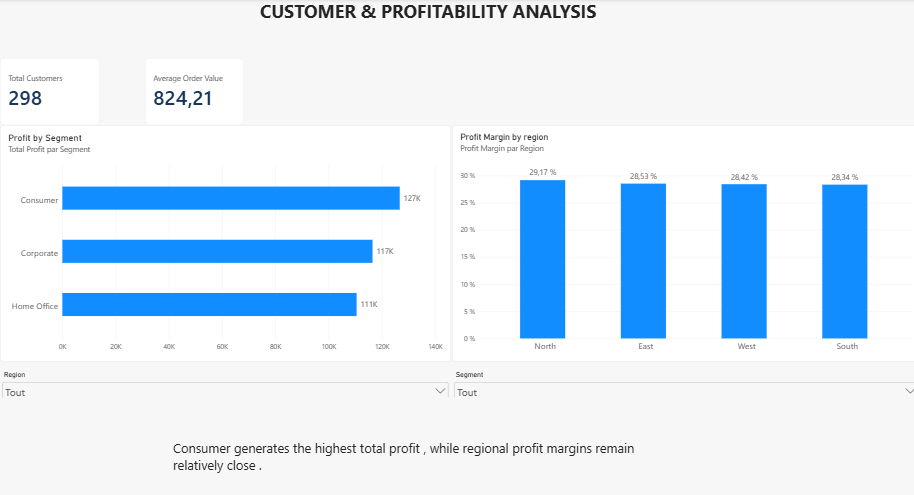

Layout of this report page (visuals, bound fields, positions):
{"tool":"powerbi","page":{"name":"Customer & Profitability","canvas":[1920,1080],"ordinal":2},"visuals":[{"type":"textbox","box":[542.5,0,870,140],"z":0},{"type":"cardVisual","fields":{"Data":["Sales.Total Customers"]},"box":[0,122.5,207.5,140],"z":1000},{"type":"cardVisual","fields":{"Data":["Sales.Average Order Value"]},"box":[302.5,122.5,205,140],"z":2000},{"type":"clusteredBarChart","title":"Profit by Segment","fields":{"Category":["Sales.Segment"],"Y":["Sales.Total Profit"]},"box":[0,262,940,494],"z":3000},{"type":"clusteredColumnChart","title":"Profit Margin by region","fields":{"Category":["Sales.Region"],"Y":["Sales.Profit Margin"]},"box":[942,262,978,494],"z":4000},{"type":"slicer","fields":{"Values":["Sales.Region"]},"box":[0,775,940,55],"z":5000},{"type":"slicer","fields":{"Values":["Sales.Segment"]},"box":[942.5,775,977.5,55],"z":6000},{"type":"textbox","box":[360,918,1072,150],"z":7000}]}

Visuals, with their boxes on the page's 1920x1080 design canvas (x1, y1, x2, y2). These are canvas units, not pixel positions in the 914x495 screenshot, which may show the page scaled, cropped or inside an application window:
textbox: l=542, t=0, r=1412, b=140
cardVisual - Sales.Total Customers: l=0, t=122, r=208, b=262
cardVisual - Sales.Average Order Value: l=302, t=122, r=508, b=262
"Profit by Segment" clusteredBarChart: l=0, t=262, r=940, b=756
"Profit Margin by region" clusteredColumnChart: l=942, t=262, r=1920, b=756
slicer - Sales.Region: l=0, t=775, r=940, b=830
slicer - Sales.Segment: l=942, t=775, r=1920, b=830
textbox: l=360, t=918, r=1432, b=1068
